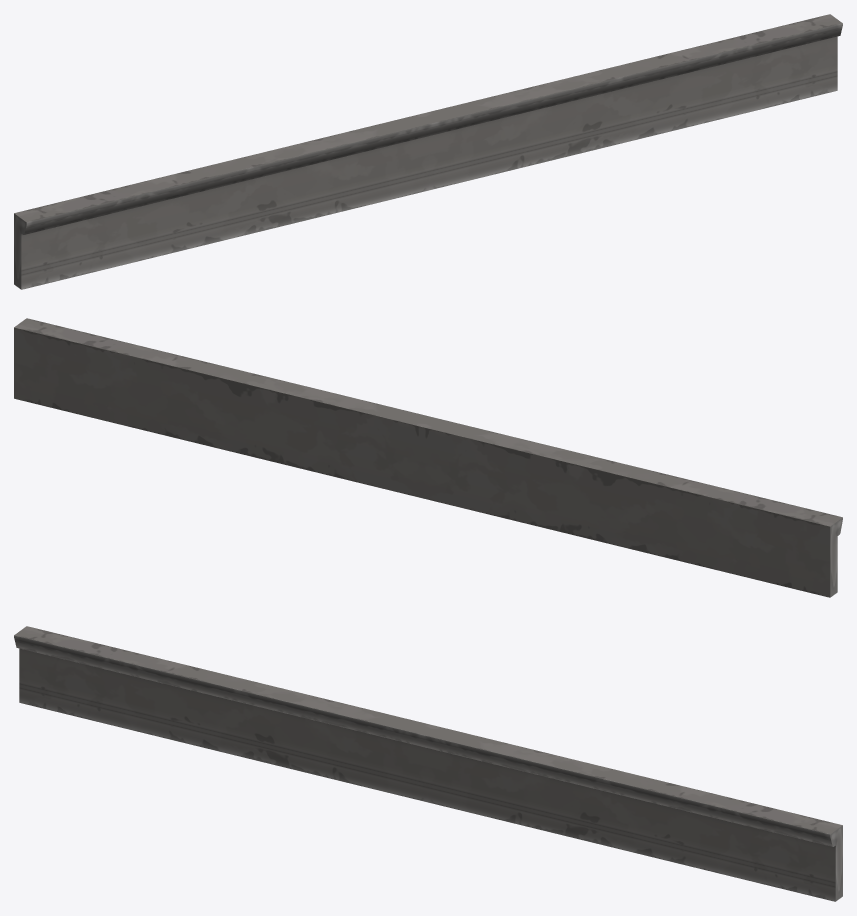
The model's file is PropTrimFacade02_1C.FBX.
The picture shows the model from 3 angles, top to bottom: view 1: azimuth 30°, elevation 25°; view 2: azimuth 150°, elevation 25°; view 3: azimuth 330°, elevation 25°; orthographic projection.
Visible parts, largest first — view 1: PropTrimFacade02_1C; view 2: PropTrimFacade02_1C; view 3: PropTrimFacade02_1C.
Boxes of the visible parts, x1,y1,x2,y2 form: PropTrimFacade02_1C: [14, 14, 842, 289]; PropTrimFacade02_1C: [14, 318, 842, 597]; PropTrimFacade02_1C: [14, 626, 842, 901].
Size of what is drawn, in the model's own units: 4.5 by 0.375 by 0.1218.
